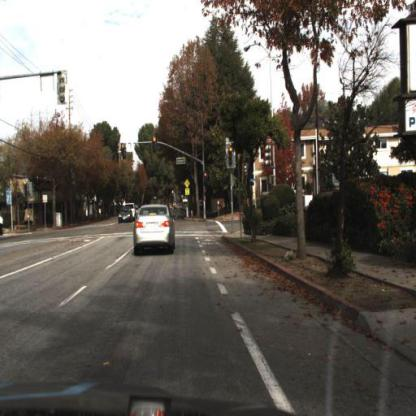car: (134, 206, 175, 253), (118, 206, 136, 223)
pedestrian: (1, 210, 4, 241)
trafficLight: (121, 140, 130, 163)
trafficLight-Red: (227, 131, 241, 173), (227, 141, 237, 171), (202, 168, 210, 189), (152, 137, 160, 157), (203, 169, 209, 184)
trafficLight-RedLeft: (19, 175, 33, 201)
